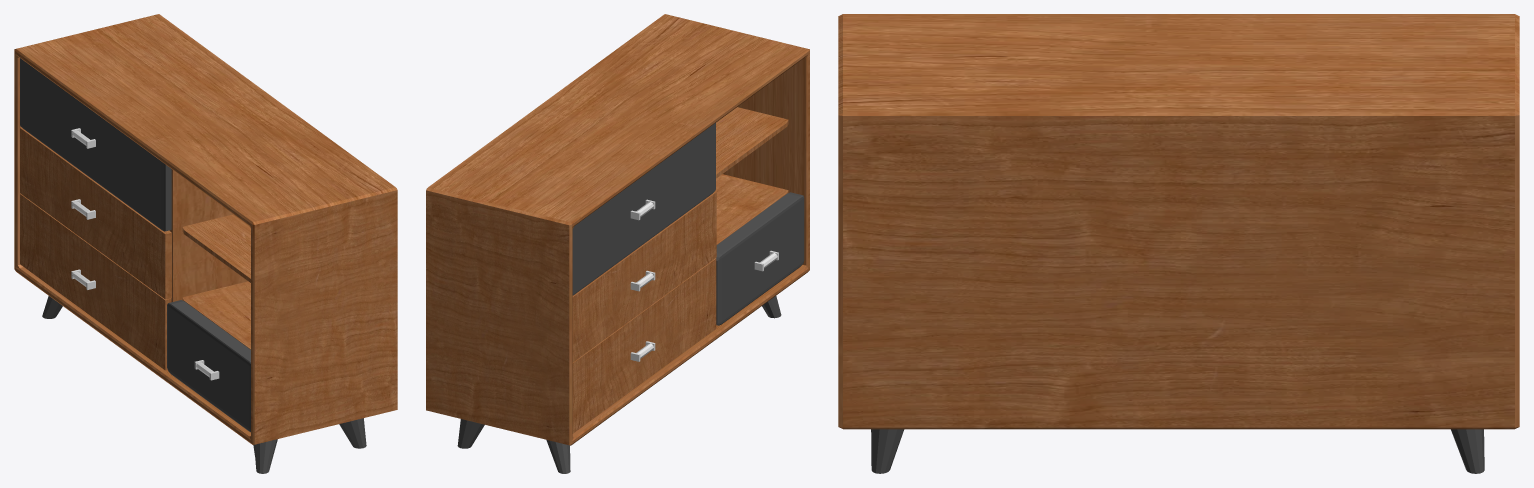
The model's file is dresser_sifonyer_renend.glb.
3 renders of one model, left to right at view 1: azimuth 30°, elevation 25°; view 2: azimuth 150°, elevation 25°; view 3: azimuth 270°, elevation 25°, orthographic. The views are drawn at different scales.
Parts seen in each view (by area): view 1: Object_4, Object_5, Object_6; view 2: Object_4, Object_5, Object_6; view 3: Object_4, Object_5.
Part boxes in pixels (<box>): Object_4: <box>14,14,397,444</box>; Object_5: <box>20,58,366,473</box>; Object_6: <box>71,128,219,380</box>; Object_4: <box>426,14,809,445</box>; Object_5: <box>457,123,804,473</box>; Object_6: <box>630,199,778,361</box>; Object_4: <box>838,14,1519,429</box>; Object_5: <box>871,429,1484,473</box>.
Bounding box in the file's own units: 1.78 × 2.96 × 4.9.
Materials: 3 (1 with a texture image).
